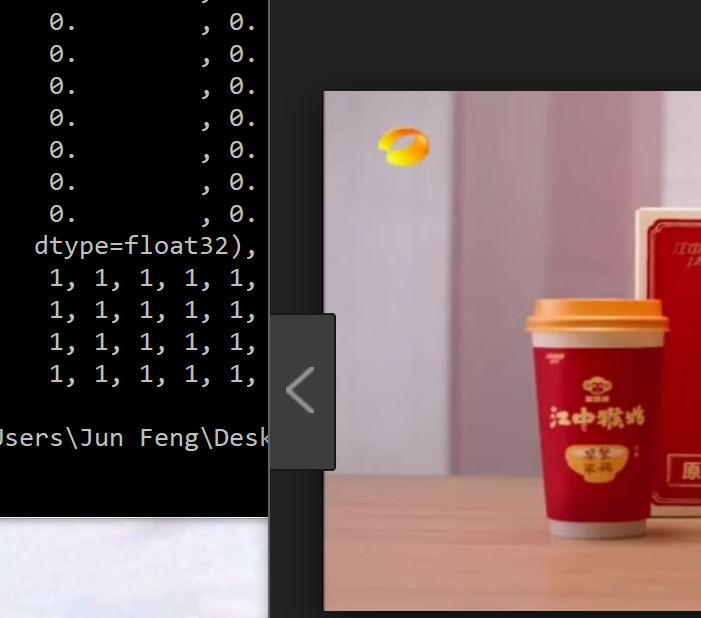cup: (527, 296, 668, 542)
